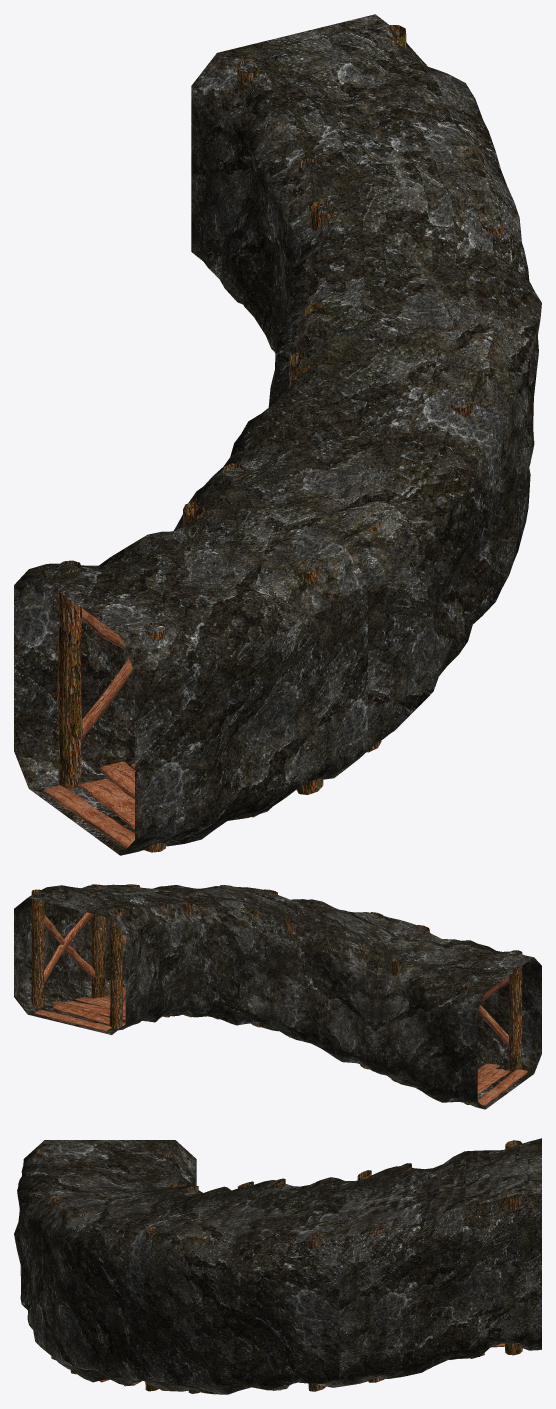
File: Cave_088.fbx
3 renders of one model, top to bottom at view 1: azimuth 30°, elevation 25°; view 2: azimuth 150°, elevation 25°; view 3: azimuth 270°, elevation 25°, orthographic. The views are drawn at different scales.
Parts seen in each view (by area): view 1: Cave.088; view 2: Cave.088; view 3: Cave.088.
Part boxes in pixels (bbox=[...]): Cave.088: bbox=[14, 14, 541, 855]; Cave.088: bbox=[14, 884, 541, 1109]; Cave.088: bbox=[14, 1138, 541, 1394].
Size of the model in its own units: 913 by 608 by 917.
